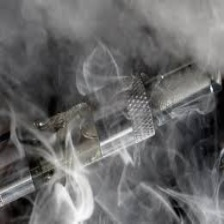smoke: (6, 4, 222, 75), (43, 171, 224, 223)
